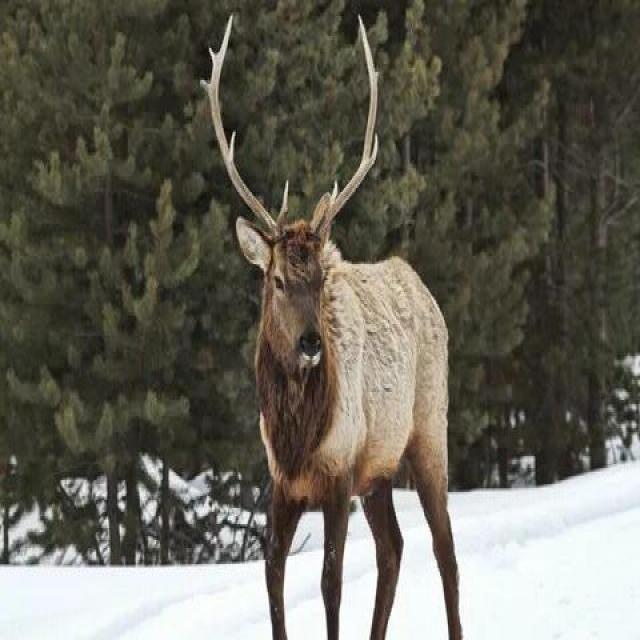deer: (149, 33, 540, 640)
